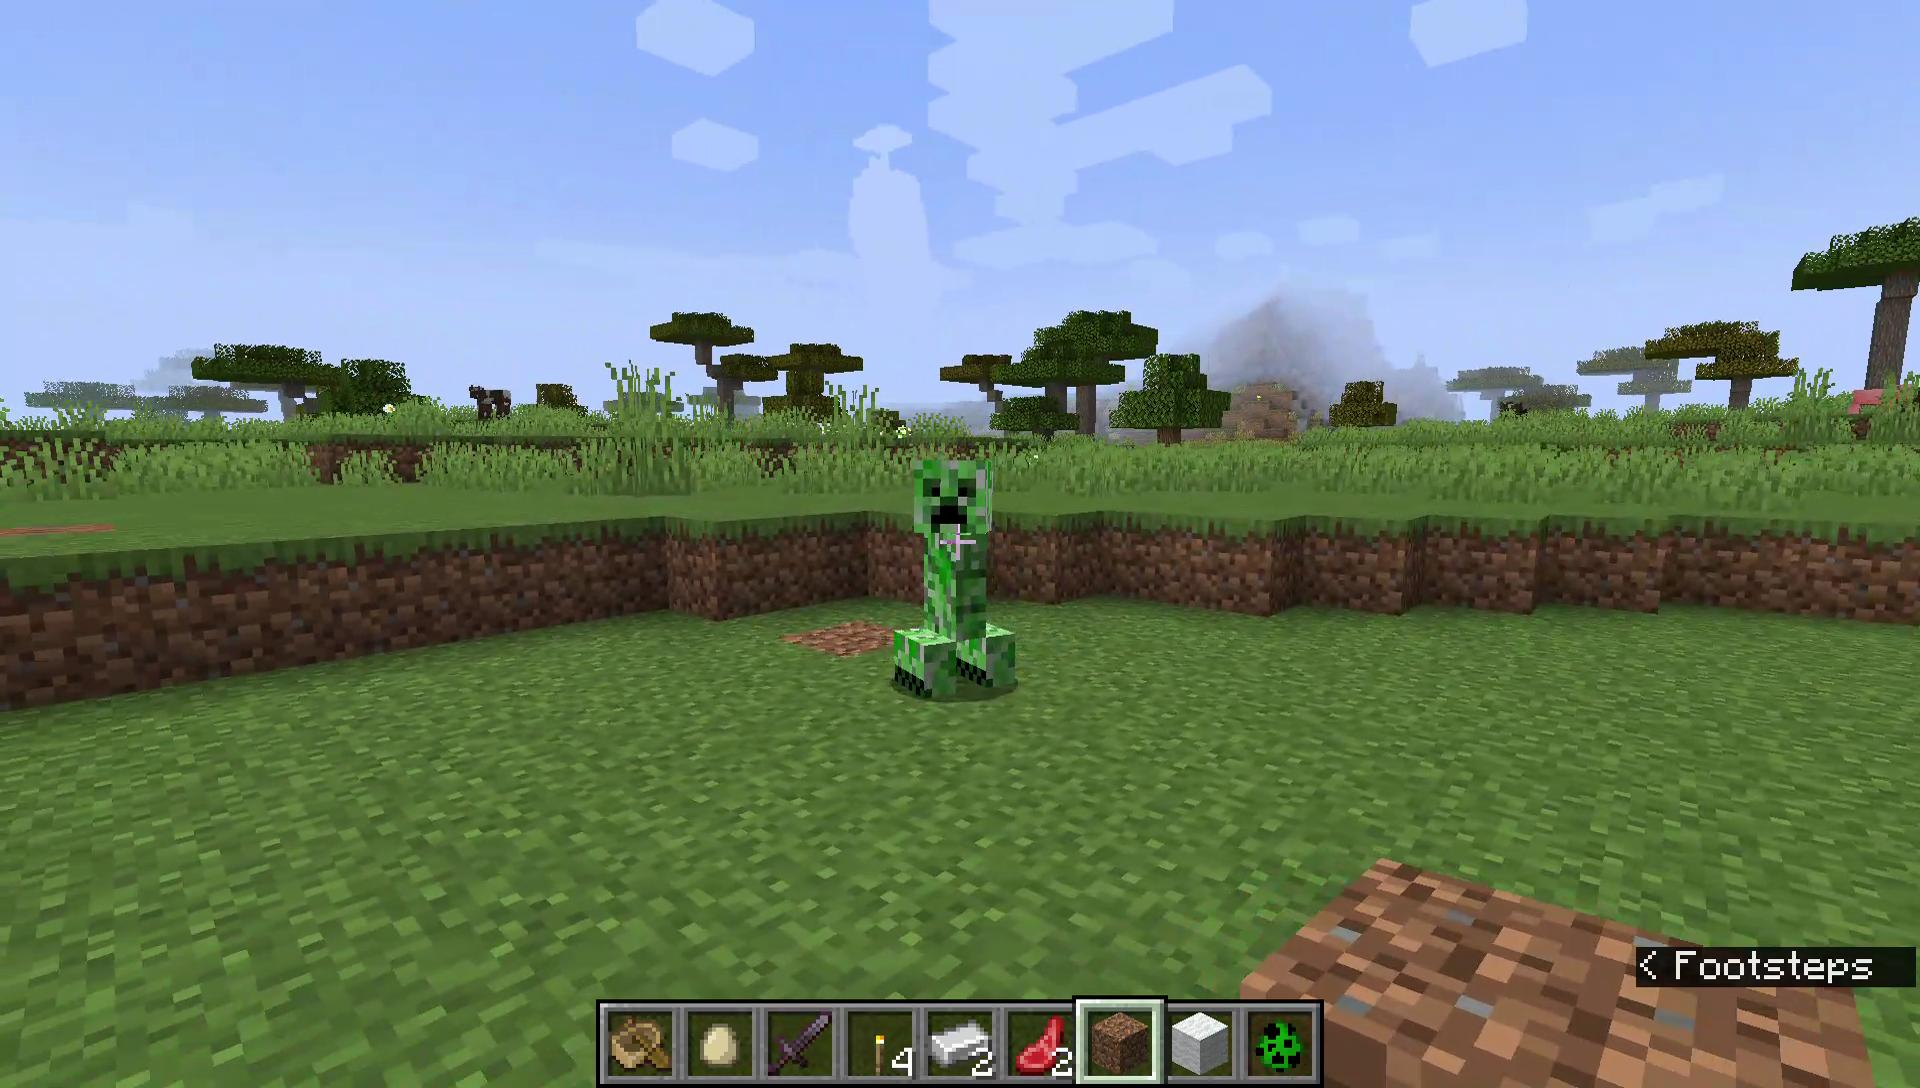creeper: (889, 450, 1025, 706)
